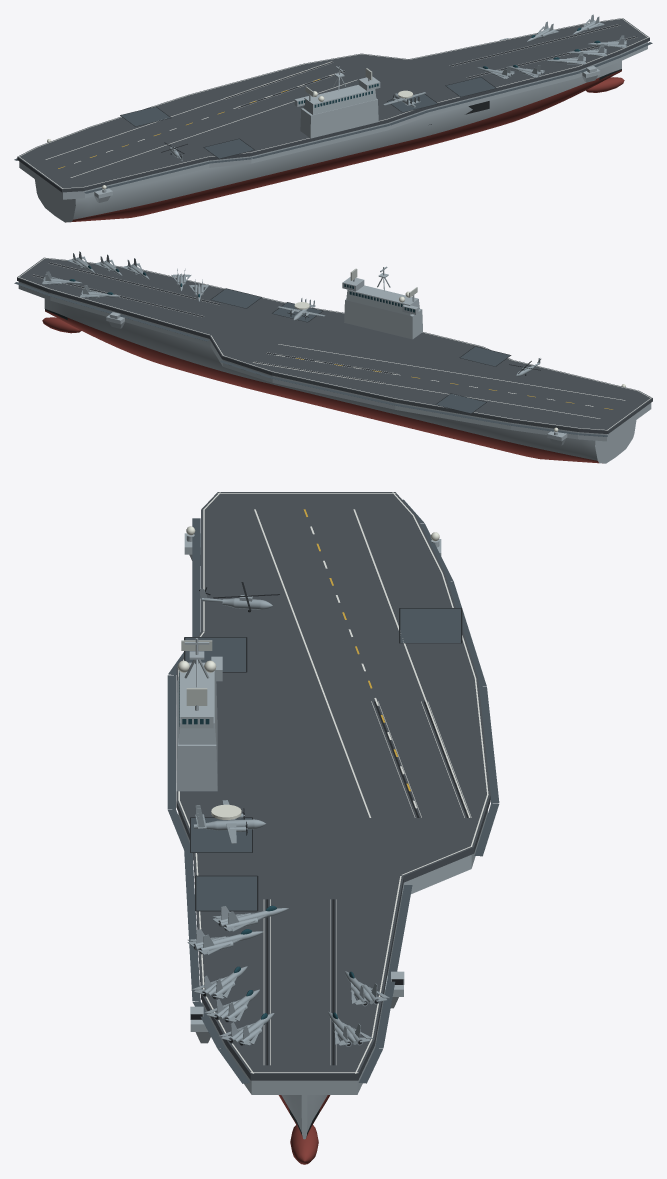
File: cw90_nimitz.glb
3 renders of one model, top to bottom at view 1: azimuth 30°, elevation 25°; view 2: azimuth 150°, elevation 25°; view 3: azimuth 270°, elevation 25°, orthographic. The views are drawn at different scales.
Parts seen in each view (by area): view 1: flight_deck, naval_paint, antifouling, deck_non_skid, marking_white, airframe, rubber, glazing; view 2: flight_deck, naval_paint, antifouling, deck_non_skid, marking_white, airframe, rubber; view 3: flight_deck, deck_non_skid, naval_paint, airframe, marking_white, rubber, antifouling.
Part boxes in pixels (x1,y1,x2,y2): flight_deck: (17,18,649,192); naval_paint: (19,38,647,222); antifouling: (70,70,624,222); deck_non_skid: (14,42,652,193); marking_white: (18,18,648,188); airframe: (169,14,626,161); rubber: (120,24,636,159); glazing: (298,27,600,107); flight_deck: (17,257,652,433); naval_paint: (18,266,651,463); antifouling: (42,310,602,463); deck_non_skid: (14,282,607,436); marking_white: (18,258,651,430); airframe: (42,251,540,376); rubber: (32,262,540,413); flight_deck: (176,492,490,1080); deck_non_skid: (167,499,499,1083); naval_paint: (176,533,487,1139); airframe: (187,588,389,1046); marking_white: (178,492,488,1073); rubber: (184,582,468,1065); antifouling: (278,1095,330,1164).
Bounding box in the file's own units: 10 × 1.88 × 2.4.
